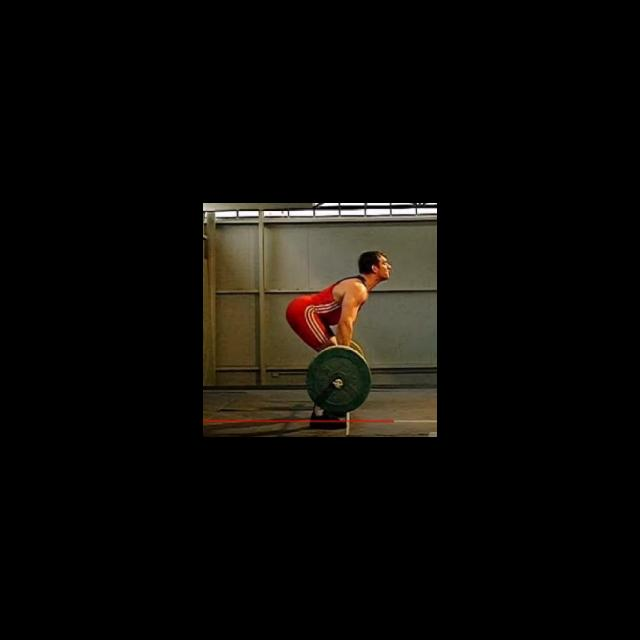barbell: (303, 343, 376, 419)
